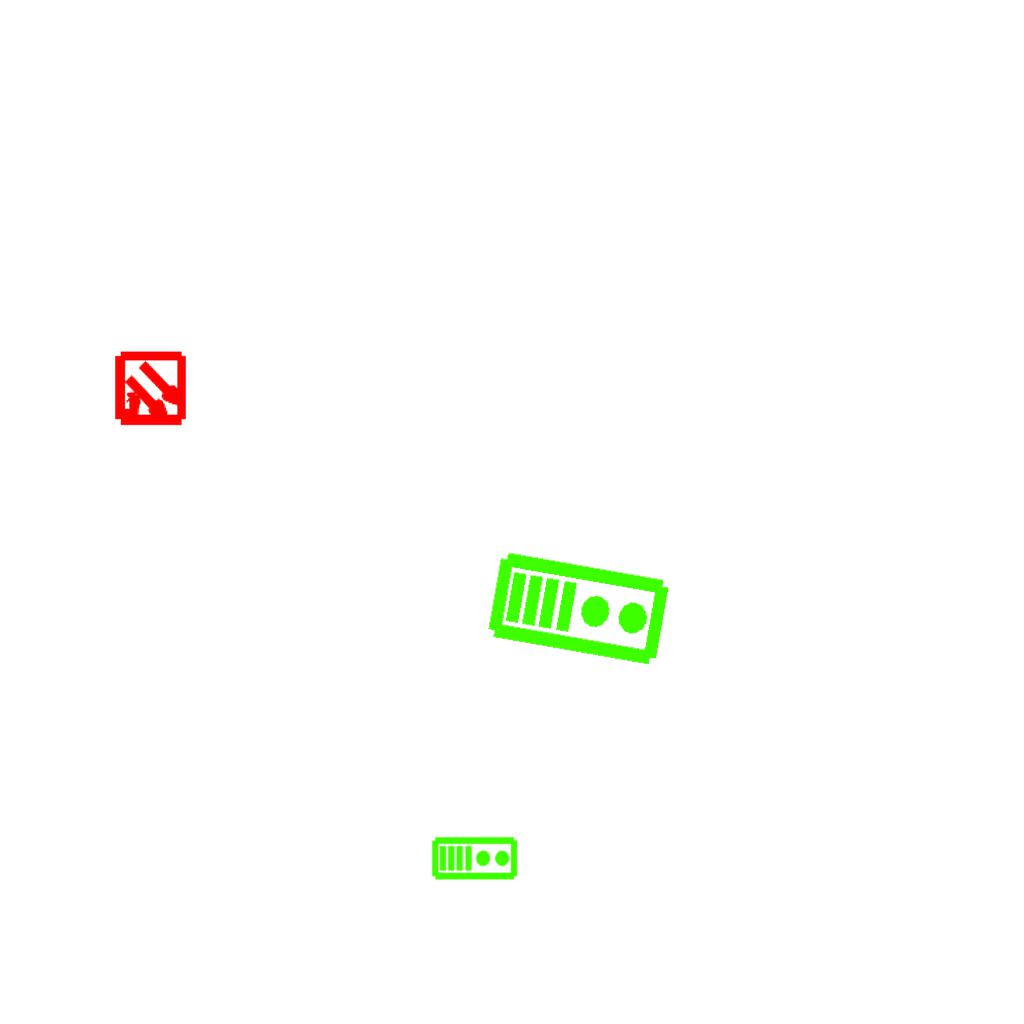Gegensprechanlage_mit_Video: (484, 544, 675, 670), (431, 834, 519, 881)
OT_Multisensormelder_(Kombination_RMO_WMD): (94, 334, 207, 447)
